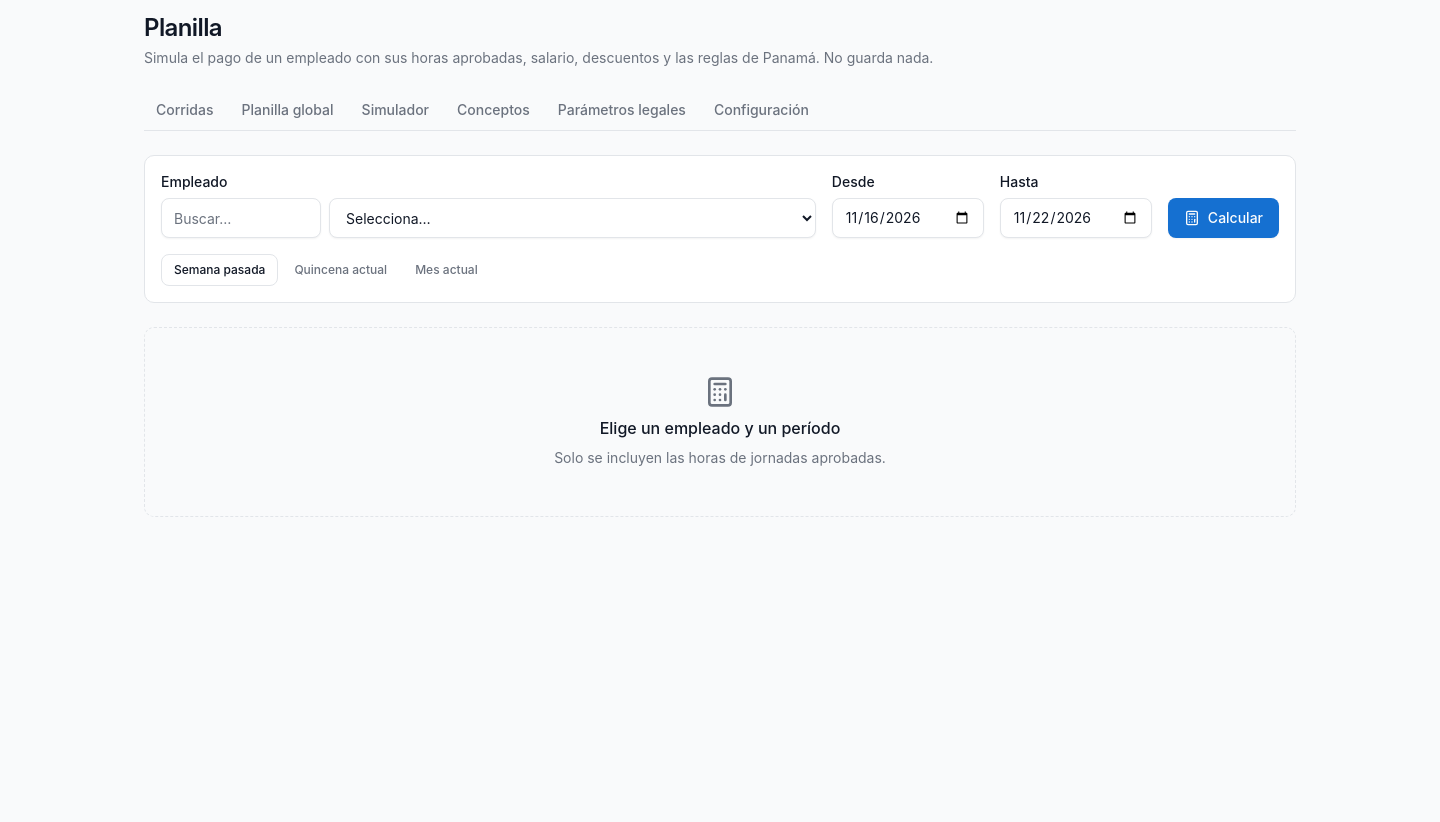
Test: SimulatorPage › calcula y muestra totales, líneas con tasas y advertencias
Select "Carlos Batista · E-0001" in the dropdown labelled "Empleado" at (572, 218), box [329,198,816,238]
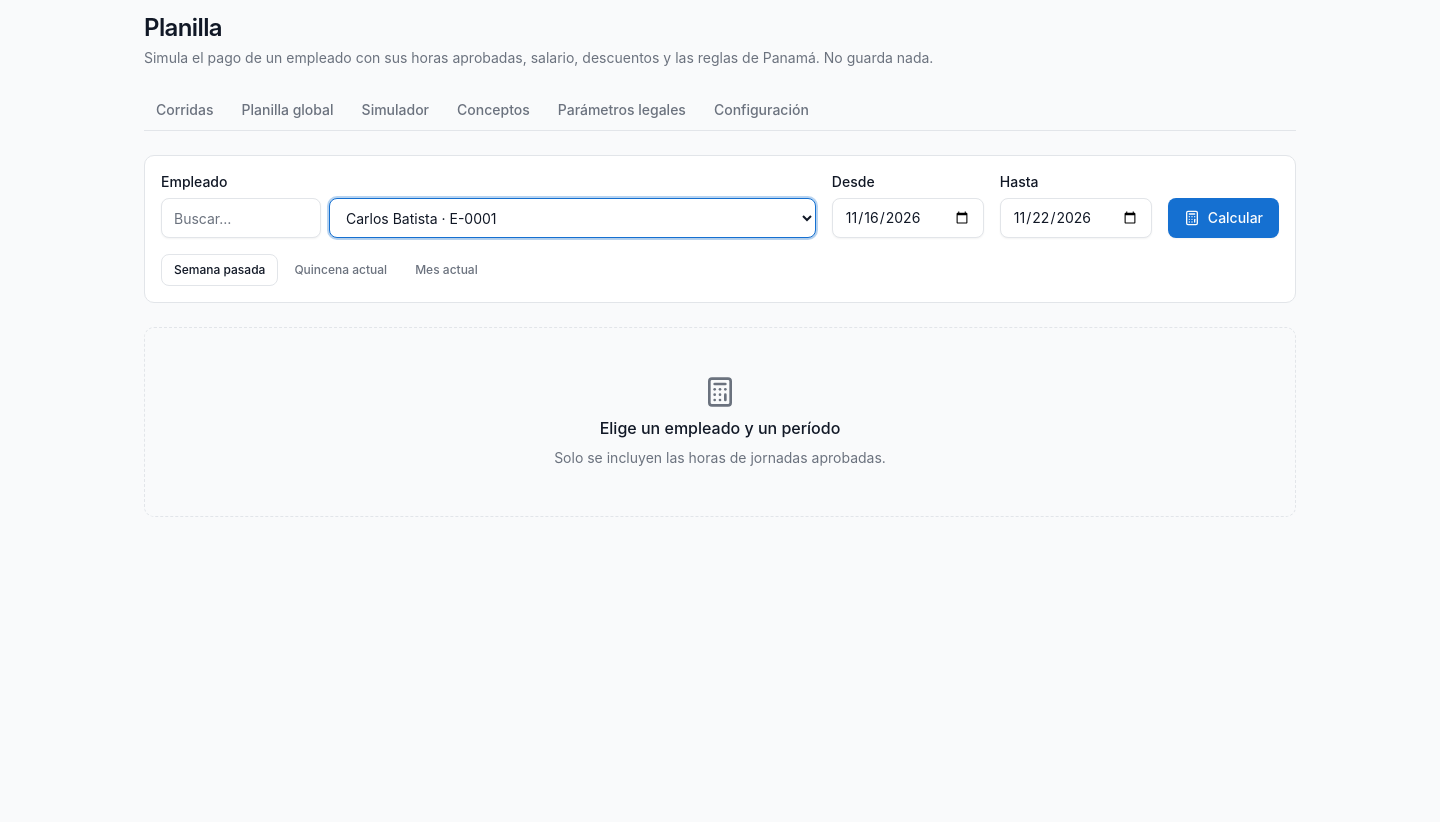
Click the button "Calcular" at (1223, 218), box [1168,198,1279,238]
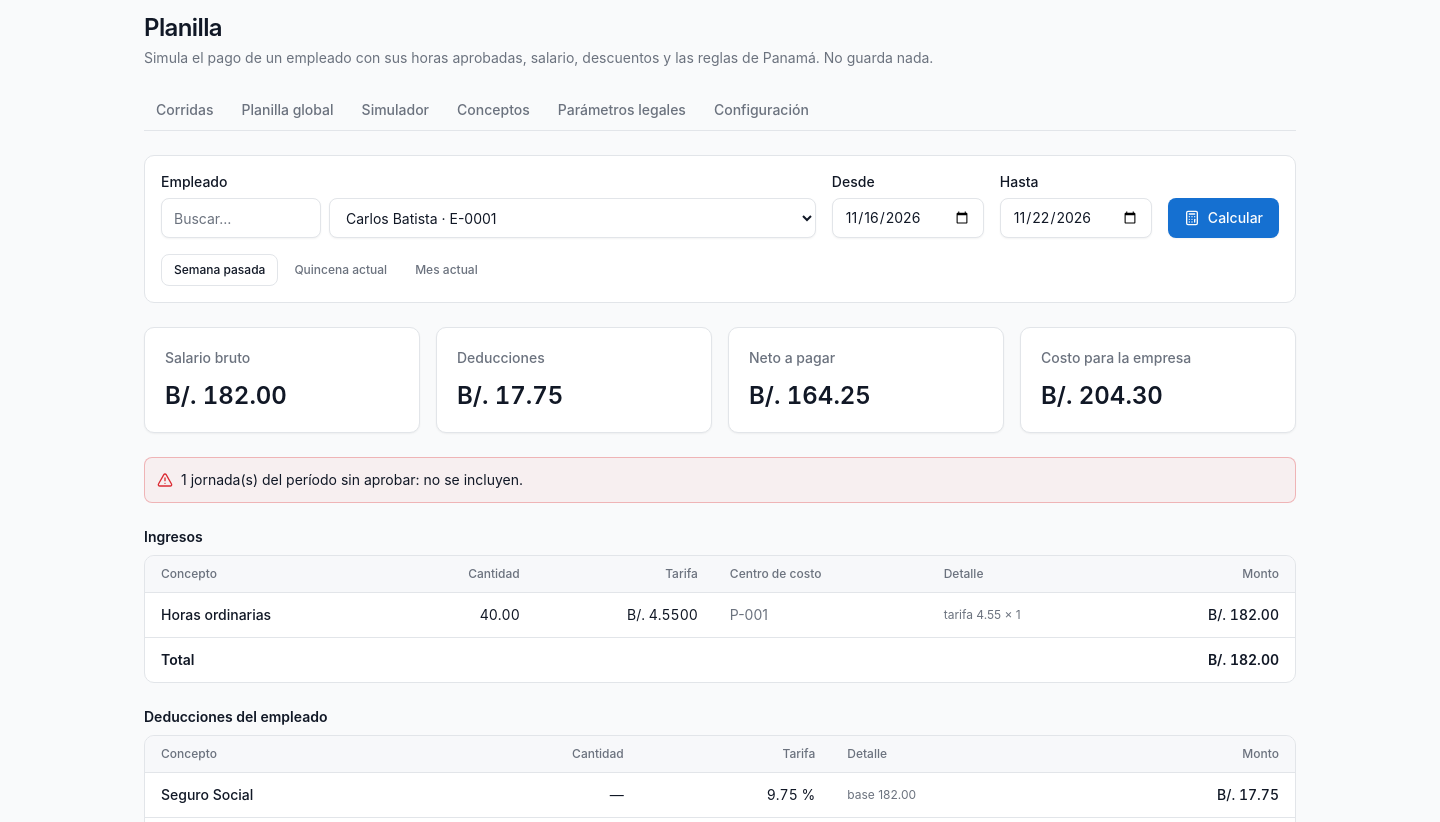
Result: the heading "Neto a pagar" is shown at [749,349,835,366]
Result: the text "B/. 164.25" is shown at [749,381,871,410]
Result: the text "9.75 %" is shown at [640,772,831,818]
